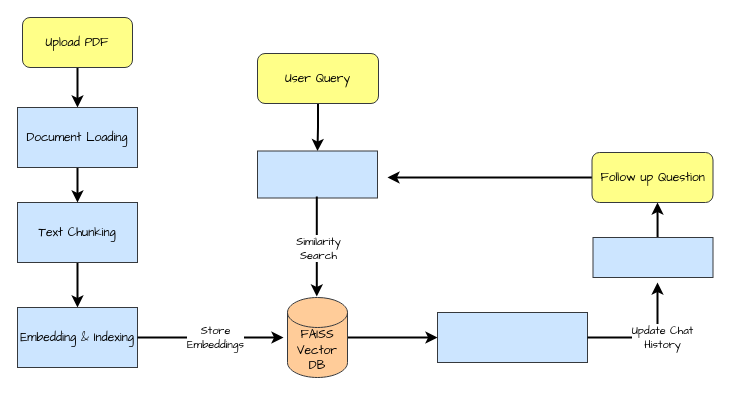
Image size: 731x395. Some labels were removed from this diagram. The box of each missing label's shape, as (x1, y1, x2, y2) in pixels:
Embedding Model: (256, 150, 378, 198)
QA Chain (GPT-4o & History-aware): (436, 312, 588, 362)
Response: (592, 236, 713, 278)
